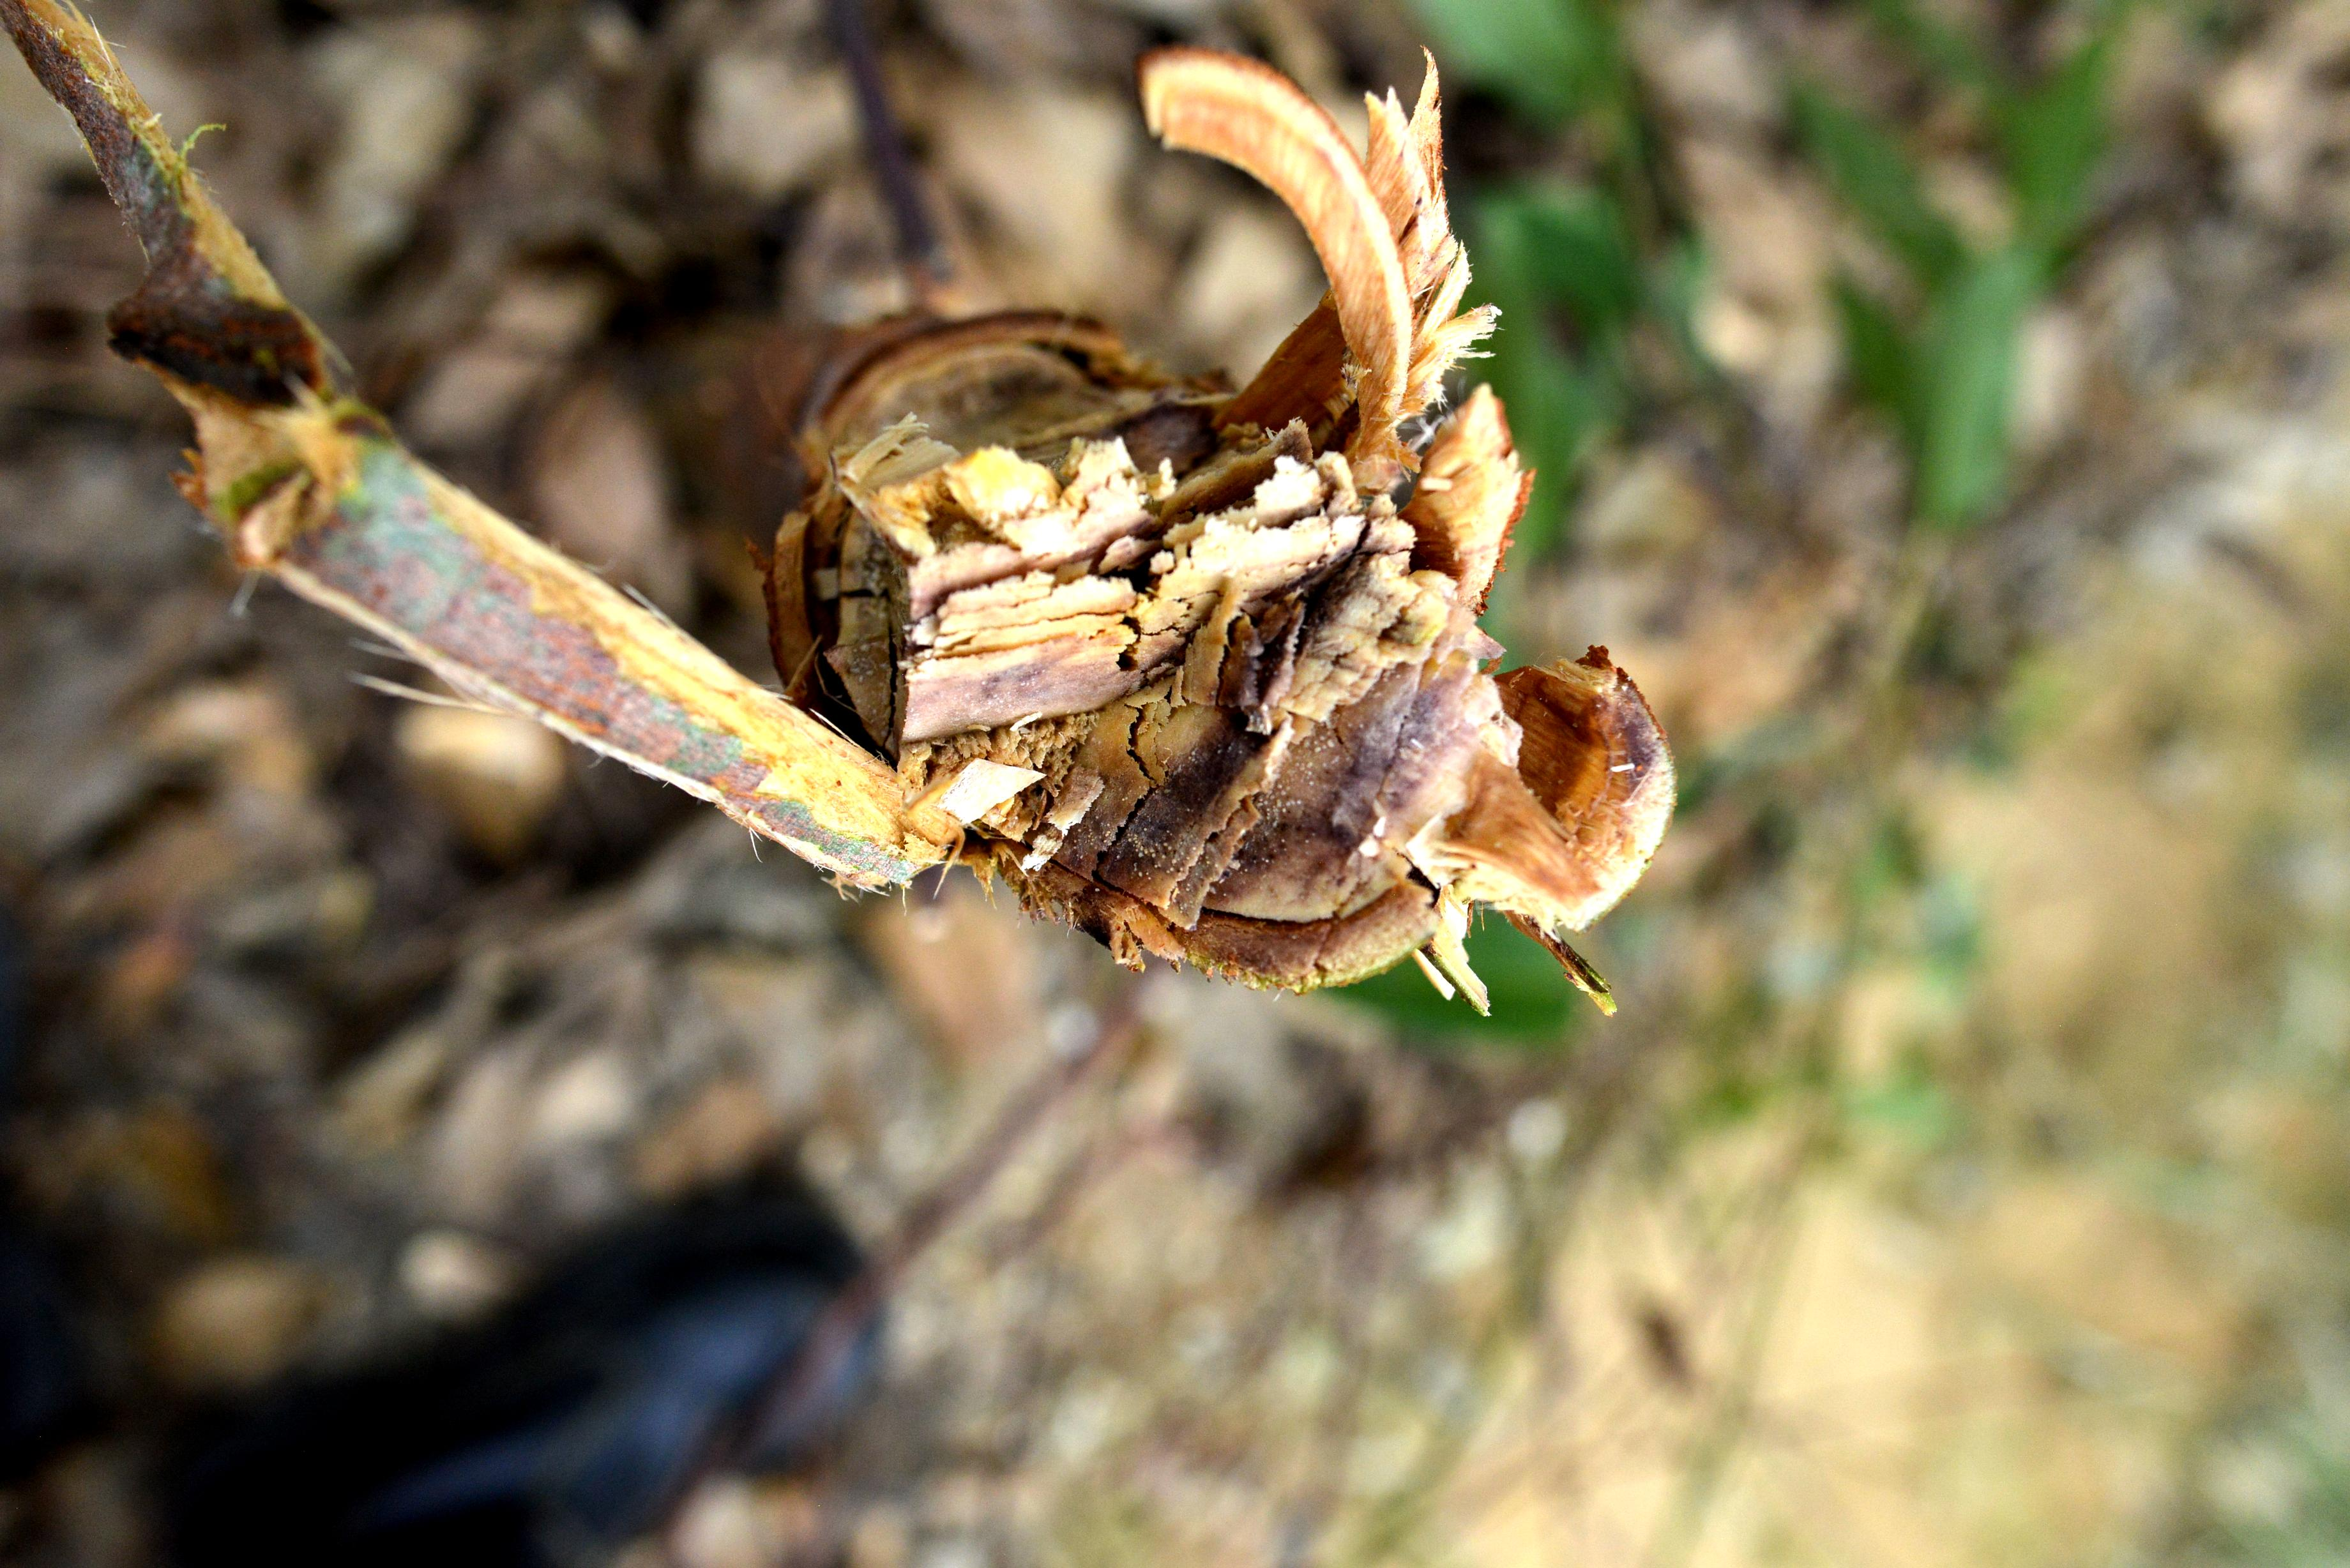Ralstonia: (1223, 709, 1333, 892), (1078, 817, 1192, 873), (945, 661, 1041, 724)
